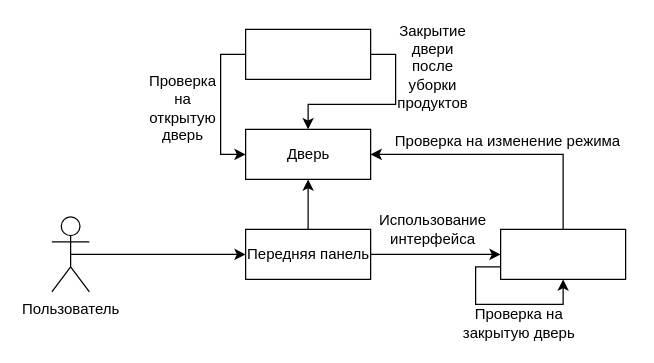
The diagram is 654 pixels wide and 363 high, and some of its shapes have lost their labels. Each missing label, with the centre of its shape:
Дисплей управления: point (562, 253)
Уборка продуктов: point (307, 53)
